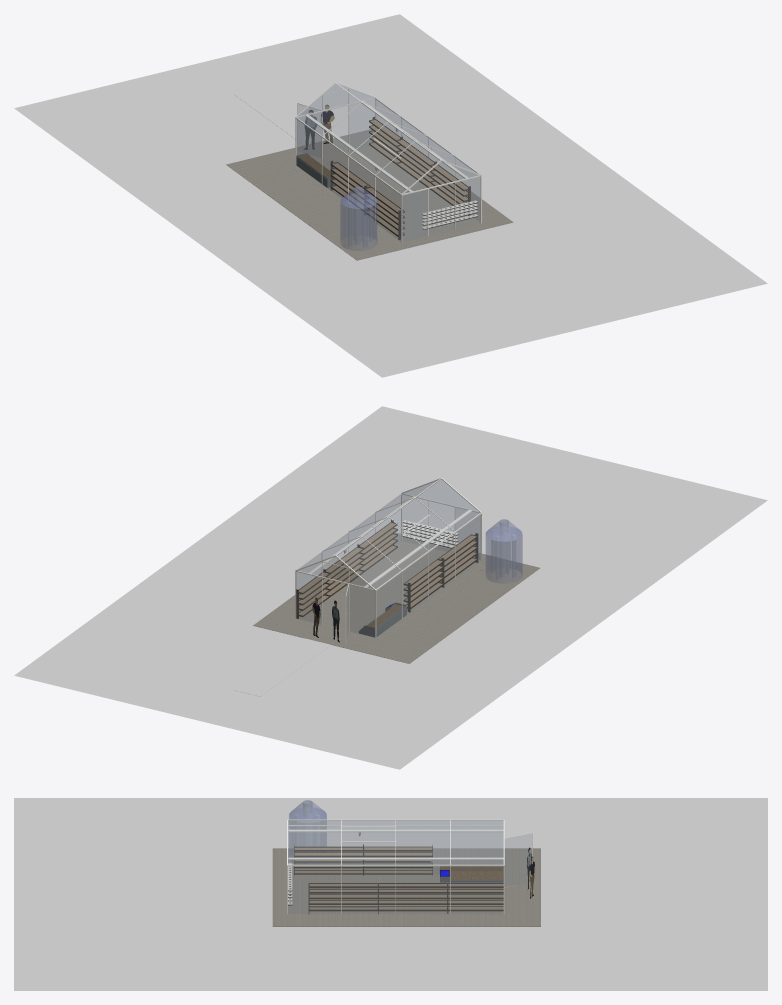
3 renders of one model, top to bottom at view 1: azimuth 30°, elevation 25°; view 2: azimuth 150°, elevation 25°; view 3: azimuth 270°, elevation 25°, orthographic. The views are drawn at different scales.
Parts seen in each view (by area): view 1: Mesh326 Model, Mesh125 Group131 Model, Mesh12 Group12 Model, Mesh8 Group8 Model, Mesh53 Group57 Group55 Model, Mesh7 Group7 Model, Mesh13 Group13 Model, Mesh9 Group9 Model, Mesh10 Group10 Model, Mesh11 Group11 Model, Mesh26 Group26 Model, Mesh6 Group6 Model (+4 smaller); view 2: Mesh326 Model, Mesh125 Group131 Model, Mesh12 Group12 Model, Mesh8 Group8 Model, Mesh53 Group57 Group55 Model, Mesh13 Group13 Model, Mesh7 Group7 Model, Mesh17 Group17 Model, Mesh6 Group6 Model, Mesh14 Group14 Model, Mesh15 Group15 Model, Mesh90 Group95 Group91 Model; view 3: Mesh326 Model, Mesh125 Group131 Model, Mesh7 Group7 Model, Mesh13 Group13 Model, Mesh8 Group8 Model, Mesh117 Group123 Group96 Model, Mesh90 Group95 Group91 Model, Mesh77 Group84 Group83 Group82 Model, Mesh12 Group12 Model, Mesh53 Group57 Group55 Model, Mesh68 Group76 Group75 Group74 Model, Mesh114 Group120 Group96 Model (+15 smaller).
Boxes of the visible parts, left/top/right/bottom form: Mesh326 Model: left=14, top=14, right=767, bottom=377; Mesh125 Group131 Model: left=226, top=87, right=513, bottom=260; Mesh12 Group12 Model: left=297, top=84, right=439, bottom=193; Mesh8 Group8 Model: left=296, top=120, right=400, bottom=241; Mesh53 Group57 Group55 Model: left=340, top=194, right=376, bottom=250; Mesh7 Group7 Model: left=376, top=100, right=479, bottom=220; Mesh13 Group13 Model: left=340, top=85, right=479, bottom=173; Mesh9 Group9 Model: left=429, top=183, right=454, bottom=235; Mesh10 Group10 Model: left=455, top=177, right=480, bottom=228; Mesh11 Group11 Model: left=402, top=190, right=427, bottom=241; Mesh26 Group26 Model: left=403, top=190, right=427, bottom=241; Mesh6 Group6 Model: left=350, top=100, right=374, bottom=150; Mesh326 Model: left=14, top=406, right=767, bottom=769; Mesh125 Group131 Model: left=234, top=532, right=539, bottom=696; Mesh12 Group12 Model: left=337, top=479, right=480, bottom=588; Mesh8 Group8 Model: left=376, top=515, right=480, bottom=633; Mesh53 Group57 Group55 Model: left=486, top=526, right=522, bottom=583; Mesh13 Group13 Model: left=298, top=480, right=437, bottom=568; Mesh7 Group7 Model: left=297, top=496, right=400, bottom=610; Mesh17 Group17 Model: left=349, top=585, right=374, bottom=637; Mesh6 Group6 Model: left=296, top=572, right=321, bottom=624; Mesh14 Group14 Model: left=299, top=557, right=371, bottom=588; Mesh15 Group15 Model: left=405, top=480, right=477, bottom=511; Mesh90 Group95 Group91 Model: left=358, top=602, right=406, bottom=637; Mesh326 Model: left=14, top=798, right=767, bottom=990; Mesh125 Group131 Model: left=272, top=848, right=686, bottom=926; Mesh7 Group7 Model: left=288, top=866, right=503, bottom=913; Mesh13 Group13 Model: left=288, top=820, right=503, bottom=864; Mesh8 Group8 Model: left=288, top=827, right=502, bottom=873; Mesh117 Group123 Group96 Model: left=505, top=834, right=531, bottom=886; Mesh90 Group95 Group91 Model: left=440, top=864, right=503, bottom=882; Mesh77 Group84 Group83 Group82 Model: left=288, top=829, right=503, bottom=832; Mesh12 Group12 Model: left=288, top=821, right=502, bottom=824; Mesh53 Group57 Group55 Model: left=289, top=807, right=326, bottom=856; Mesh68 Group76 Group75 Group74 Model: left=288, top=857, right=503, bottom=859; Mesh114 Group120 Group96 Model: left=288, top=864, right=503, bottom=866.
Bounding box in the file's own units: 33.54 × 6.13 × 55.43.
40 materials, 11 textured.
